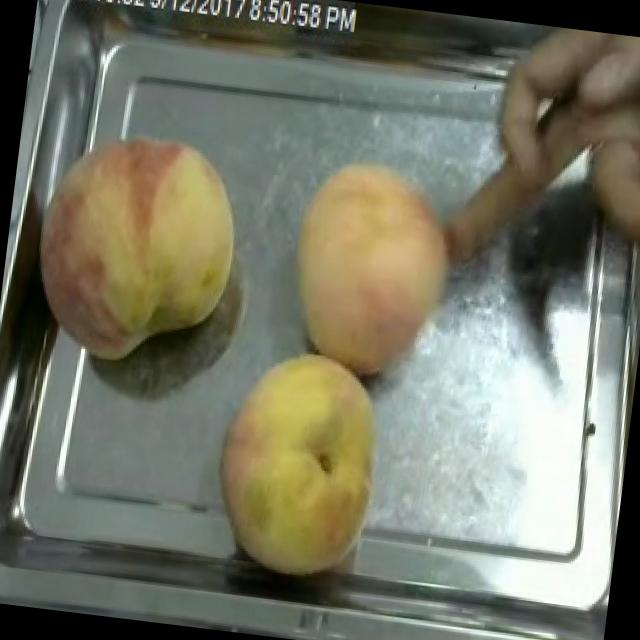Fruit: (9, 108, 258, 383), (198, 332, 404, 592), (270, 142, 472, 392), (560, 72, 640, 272)
